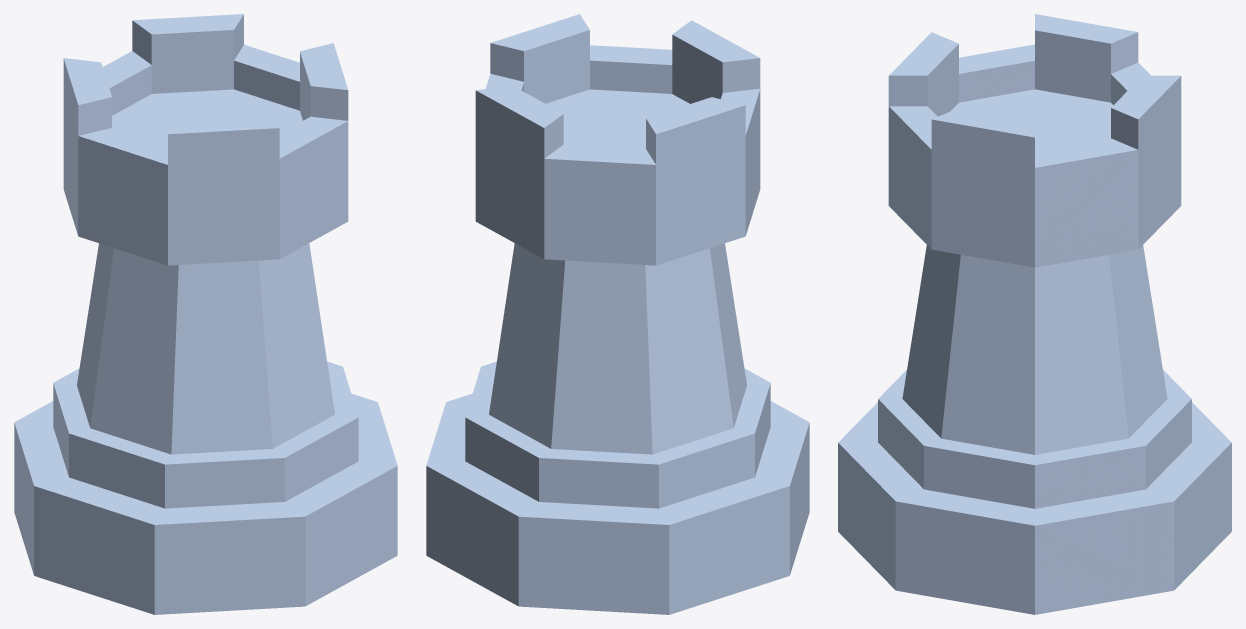
Rendered from fire1.gltf.
The picture shows the model from 3 angles, left to right: view 1: azimuth 30°, elevation 25°; view 2: azimuth 150°, elevation 25°; view 3: azimuth 270°, elevation 25°; orthographic projection.
Parts seen in each view (by area): view 1: Fire1; view 2: Fire1; view 3: Fire1.
Part boxes in pixels (x1,y1,x2,y2): Fire1: (14,14,397,614); Fire1: (426,14,809,614); Fire1: (838,14,1231,614).
Bounding box in the file's own units: 8 × 10.22 × 8.
